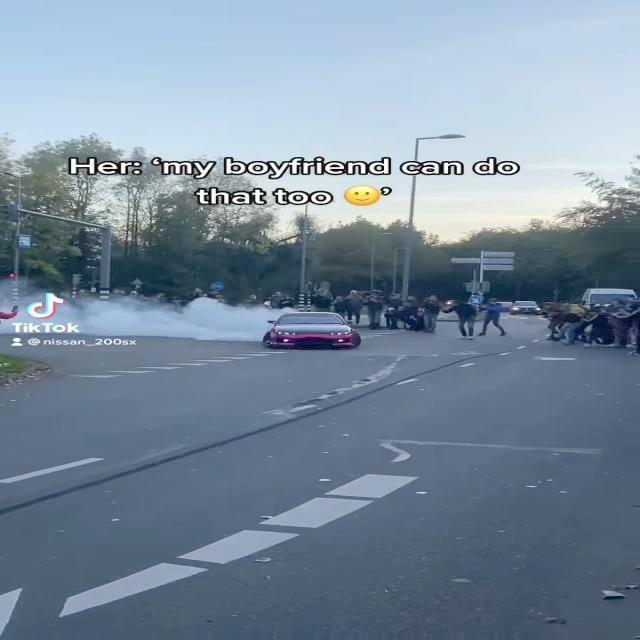car: (268, 312, 359, 355)
